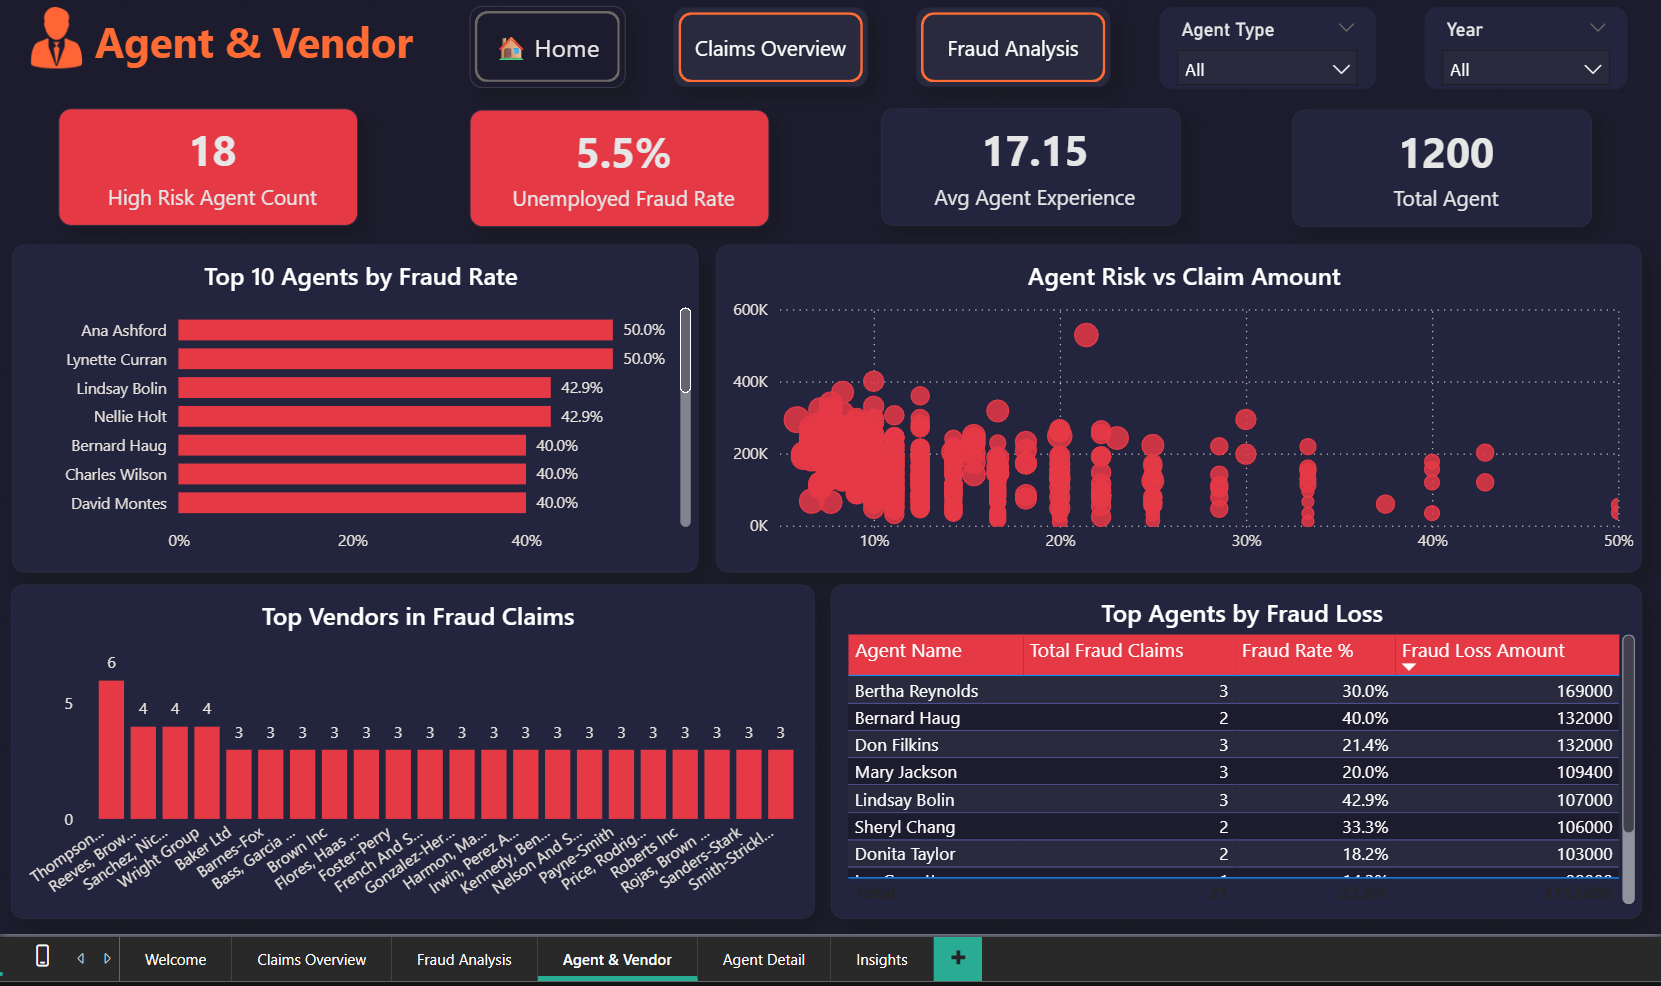

The dashboard page shown, as its layout file describes it:
{"tool":"powerbi","page":{"name":"Agent & Vendor ","canvas":[1280,720],"ordinal":3},"visuals":[{"type":"slicer","fields":{"Values":["Date Table.Year"]},"box":[1096.3,7.2,155.9,63],"z":0},{"type":"slicer","fields":{"Values":["DimAgent.Agent_Type"]},"box":[892.9,7.2,166.2,63],"z":1000},{"type":"card","fields":{"Values":["FactClaims.High Risk Agent Count"]},"box":[47,85.6,230,90],"z":2000},{"type":"card","fields":{"Values":["FactClaims.Unemployed Fraud Rate"]},"box":[362.7,86.6,230,90],"z":3000},{"type":"card","fields":{"Values":["FactClaims.Avg Agent Experience"]},"box":[678.4,85.2,230,90],"z":4000},{"type":"clusteredBarChart","title":"Top 10 Agents by Fraud Rate","fields":{"Category":["DimAgent.AGENT_NAME"],"Y":["FactClaims.Agent Fraud Rate"]},"box":[11.4,189.9,527.5,251.9],"z":5000},{"type":"scatterChart","title":"Agent Risk vs Claim Amount","fields":{"X":["FactClaims.Agent Fraud Rate"],"Y":["FactClaims.Total Claim Amount"],"Size":["FactClaims.Total Claims"],"Category":["DimAgent.AGENT_NAME"]},"box":[552.3,189.9,711.2,251.9],"z":6000},{"type":"clusteredColumnChart","title":"Top Vendors in Fraud Claims","fields":{"Y":["FactClaims.Total Fraud Claims"],"Category":["DimVendor.VENDOR_NAME"]},"box":[10.3,451.1,617.3,257],"z":7000},{"type":"card","title":"Total Agent","fields":{"Values":["Count(DimAgent.AGENT_ID)"]},"box":[994.4,86.6,230,90],"z":8000},{"type":"tableEx","title":"Top Agents by Fraud Loss","fields":{"Values":["DimAgent.AGENT_NAME","FactClaims.Total Fraud Claims","FactClaims.Fraud Rate %","FactClaims.Fraud Loss Amount"]},"box":[640,451.1,623.5,257],"z":9000},{"type":"actionButton","box":[519.2,7.2,149.7,61.9],"z":10000},{"type":"actionButton","box":[706.1,7.2,149.7,61.9],"z":11000},{"type":"textbox","box":[70.2,7.2,274.6,63],"z":12000},{"type":"image","box":[10.3,7.2,70.2,47.5],"z":13000},{"type":"actionButton","box":[362.7,7.1,119.7,62.8],"z":14000}]}

Visuals, with their boxes on the page's 1280x720 design canvas (x1, y1, x2, y2). These are canvas units, not pixel positions in the 1661x986 screenshot, which may show the page scaled, cropped or inside an application window:
slicer - Date Table.Year: x1=1096, y1=7, x2=1252, y2=70
slicer - DimAgent.Agent_Type: x1=893, y1=7, x2=1059, y2=70
card - FactClaims.High Risk Agent Count: x1=47, y1=86, x2=277, y2=176
card - FactClaims.Unemployed Fraud Rate: x1=363, y1=87, x2=593, y2=177
card - FactClaims.Avg Agent Experience: x1=678, y1=85, x2=908, y2=175
"Top 10 Agents by Fraud Rate" clusteredBarChart: x1=11, y1=190, x2=539, y2=442
"Agent Risk vs Claim Amount" scatterChart: x1=552, y1=190, x2=1264, y2=442
"Top Vendors in Fraud Claims" clusteredColumnChart: x1=10, y1=451, x2=628, y2=708
"Total Agent" card: x1=994, y1=87, x2=1224, y2=177
"Top Agents by Fraud Loss" tableEx: x1=640, y1=451, x2=1264, y2=708
actionButton: x1=519, y1=7, x2=669, y2=69
actionButton: x1=706, y1=7, x2=856, y2=69
textbox: x1=70, y1=7, x2=345, y2=70
image: x1=10, y1=7, x2=80, y2=55
actionButton: x1=363, y1=7, x2=482, y2=70
